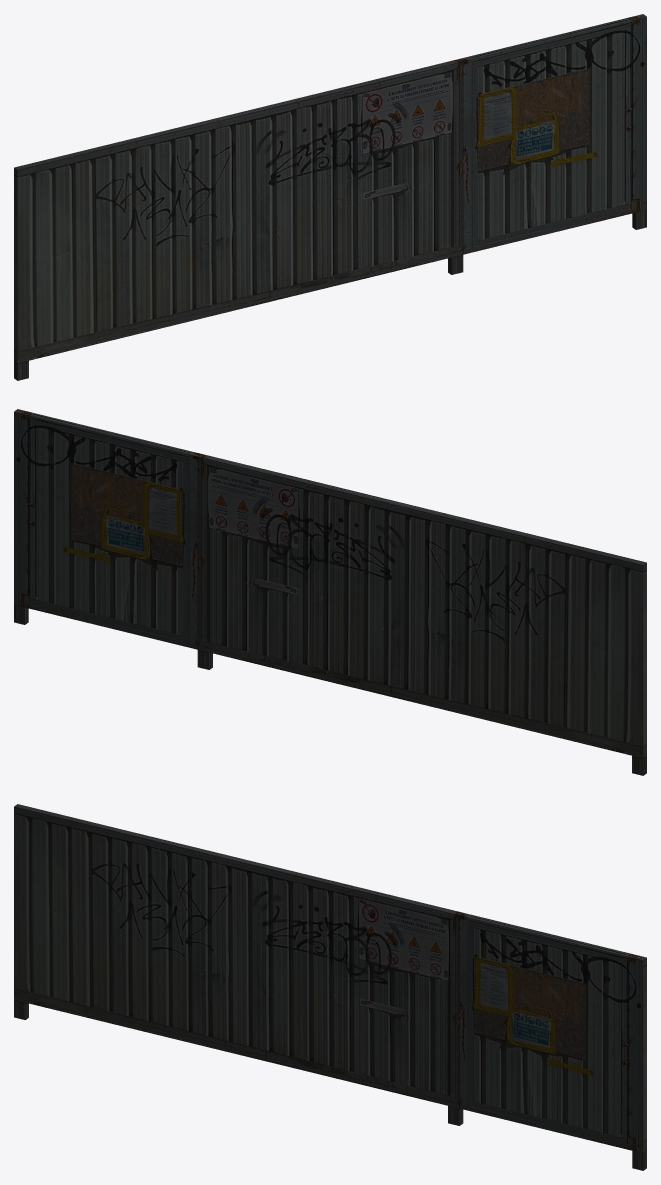
The model's file is gate_1.dae.
3 renders of one model, top to bottom at view 1: azimuth 30°, elevation 25°; view 2: azimuth 150°, elevation 25°; view 3: azimuth 330°, elevation 25°, orthographic.
Parts seen in each view (by area): view 1: gate_1; view 2: gate_1; view 3: gate_1.
Boxes of the visible parts, x1=… form: gate_1: x1=14, y1=14, x2=646, y2=380; gate_1: x1=14, y1=409, x2=646, y2=775; gate_1: x1=14, y1=804, x2=646, y2=1170.
Bounding box in the file's own units: 5 × 0.05 × 1.6.
1 material, 1 textured.
